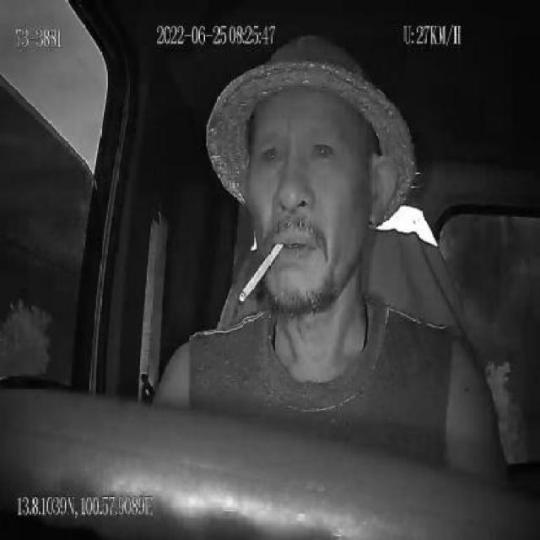smoking: (238, 238, 285, 305)
